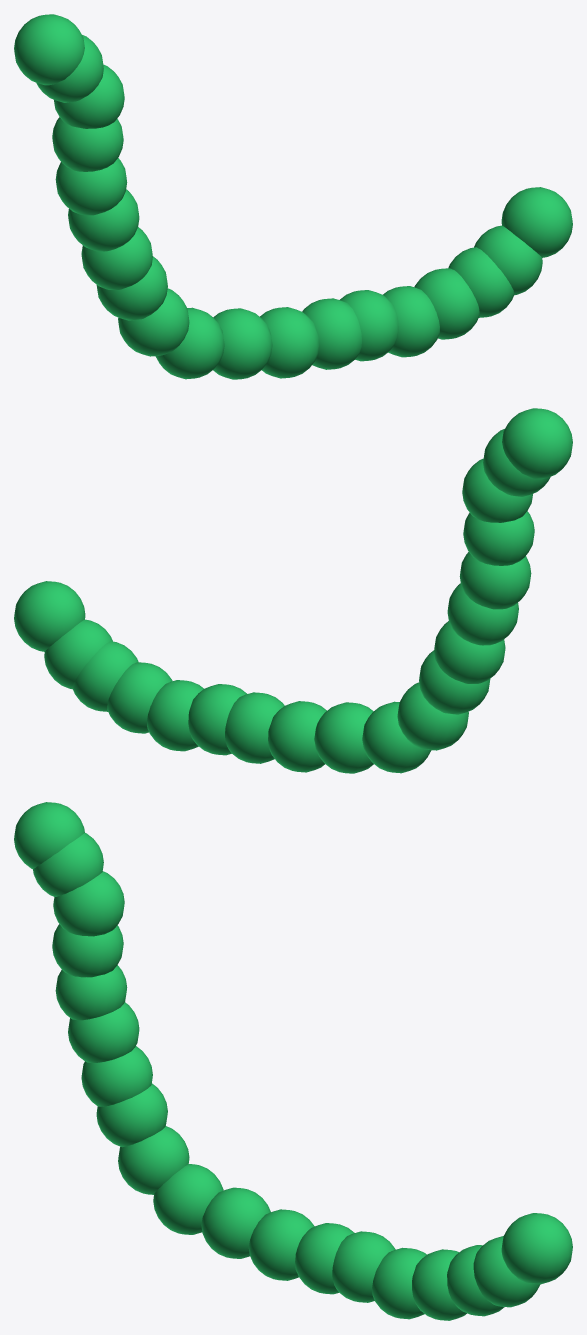
File: lanzao.obj
The picture shows the model from 3 angles, top to bottom: view 1: azimuth 30°, elevation 25°; view 2: azimuth 150°, elevation 25°; view 3: azimuth 330°, elevation 25°; orthographic projection.
Visible parts, largest first — view 1: outer; view 2: outer; view 3: outer.
Boxes of the visible parts, left/top/right/bottom form: outer: left=14, top=14, right=572, bottom=379; outer: left=14, top=408, right=572, bottom=773; outer: left=14, top=802, right=572, bottom=1320.
Size of the model in its own units: 92.58 by 68.22 by 10.49.
